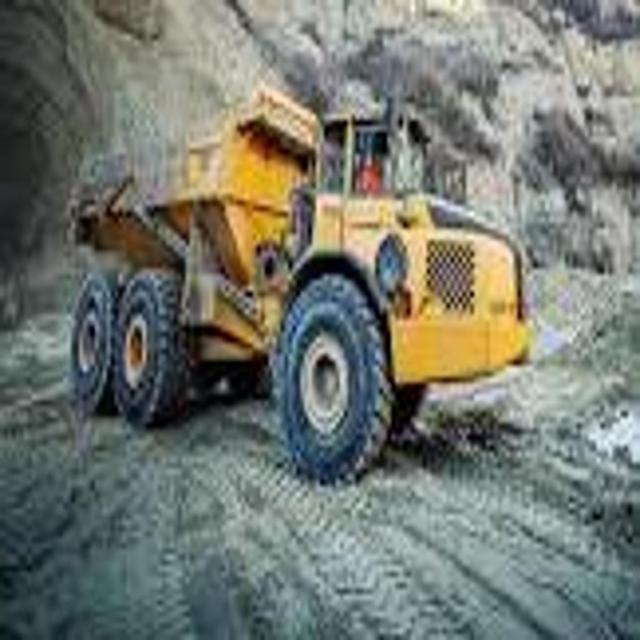dump_truck: (64, 83, 531, 494)
